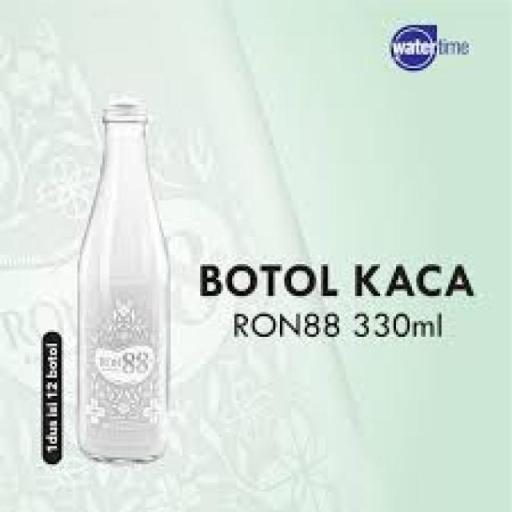plastic: (82, 95, 175, 466)
